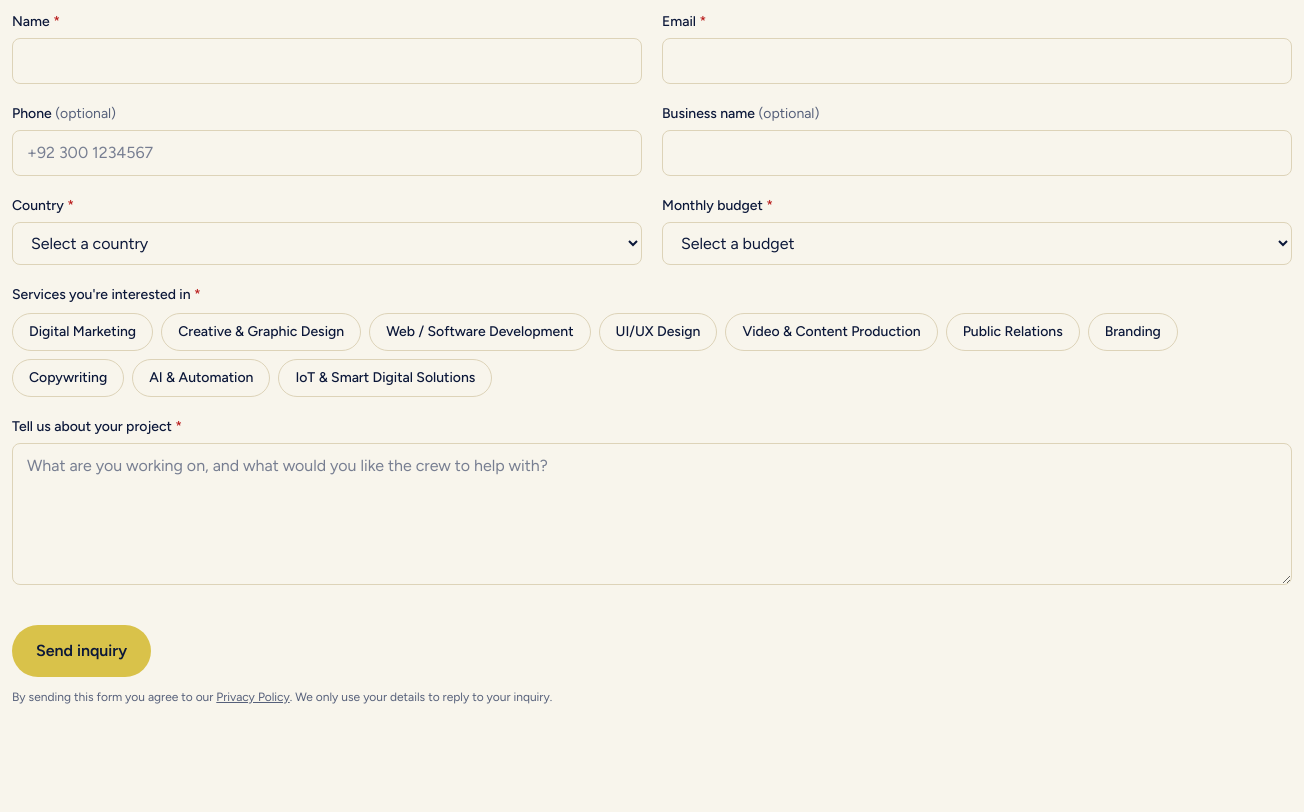
Scenario: InquiryForm › keeps the values after a server error and offers a retry
This screenshot has width=1304, height=812.
In the field labelled "Name *": (327, 61) [12, 38, 642, 84], type "Ayesha Khan"
In the field labelled "Email *": (977, 61) [662, 38, 1292, 84], type "ayesha@example.com"
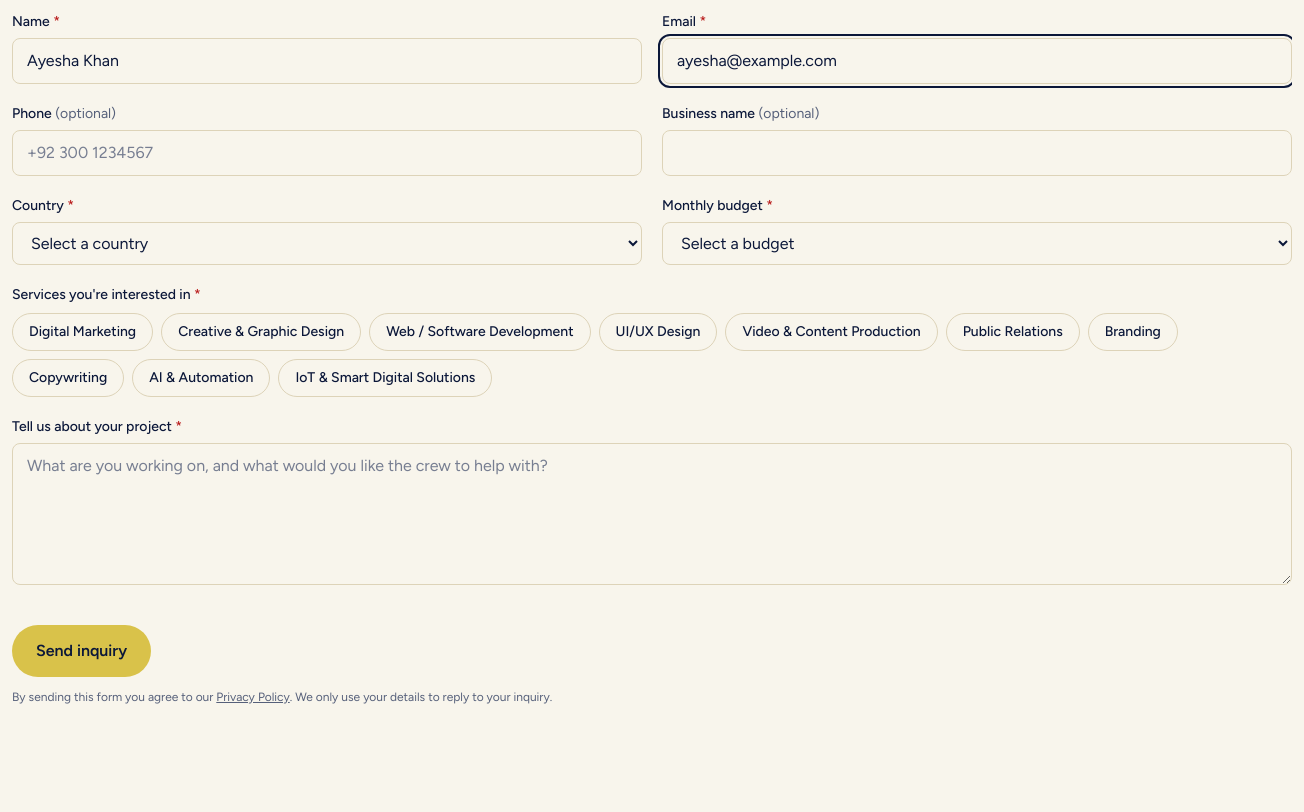
Select "Pakistan" in the dropdown labelled "Country *": (327, 244) [12, 222, 642, 265]
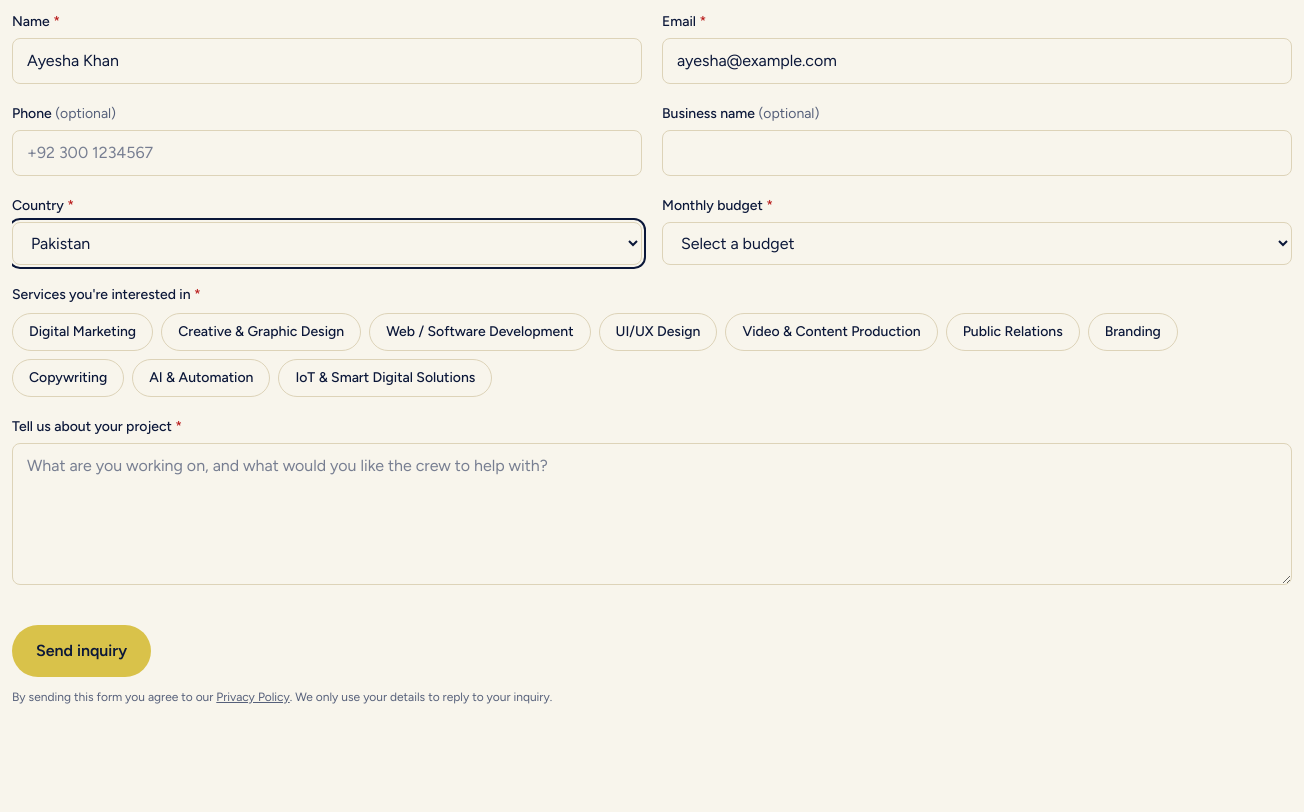
Select "Not sure yet" in the dropdown labelled "Monthly budget *": (977, 244) [662, 222, 1292, 265]
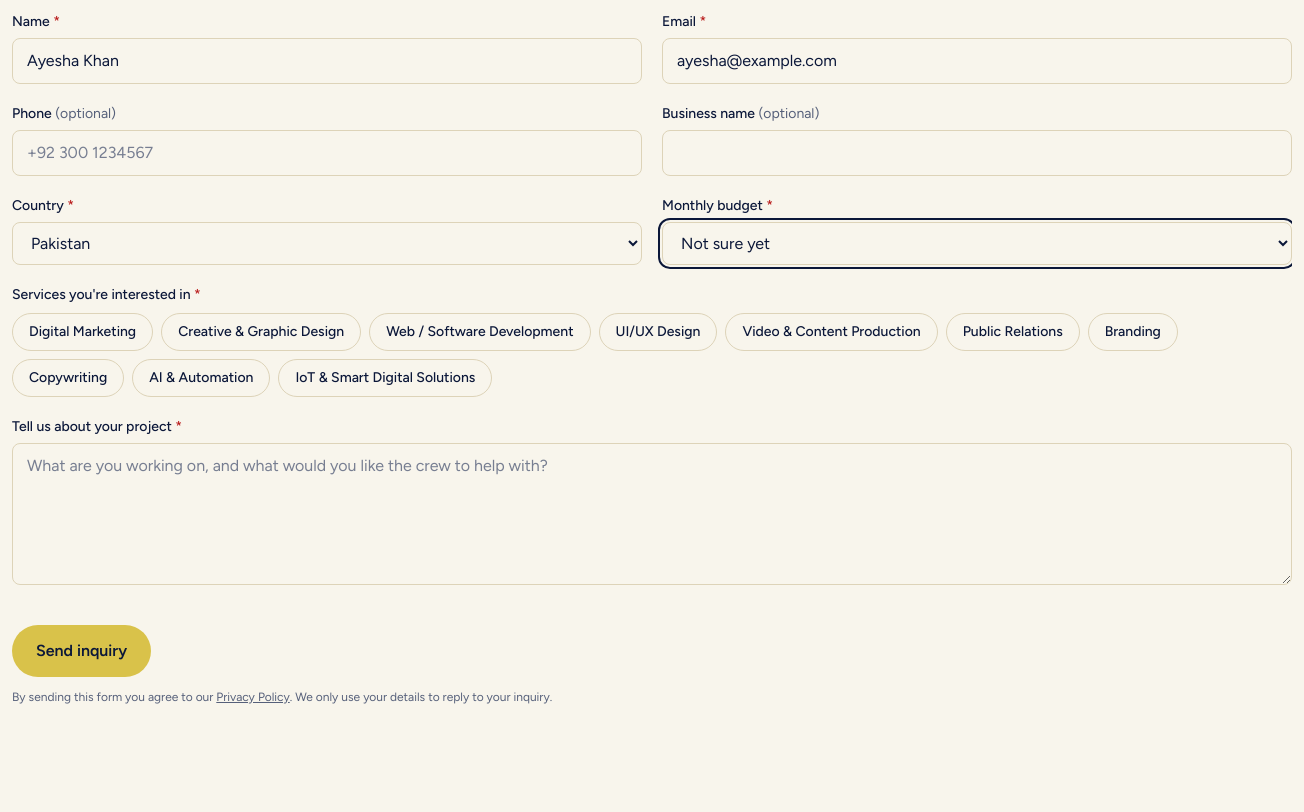
Click the checkbox labelled "Branding": (1133, 332) [1088, 313, 1178, 351]
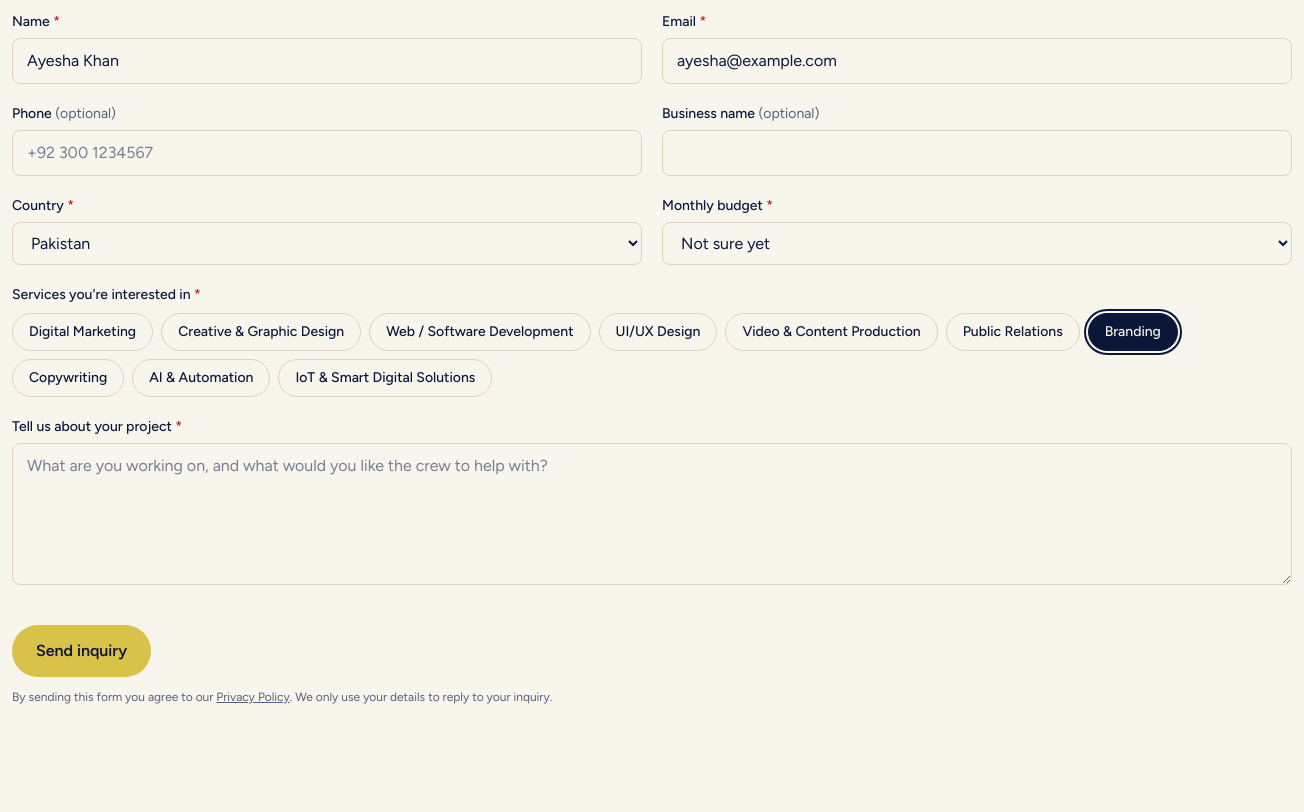
In the text box labelled "Tell us about your project *": (652, 514) [12, 443, 1292, 585], type "We need more patients from Google."
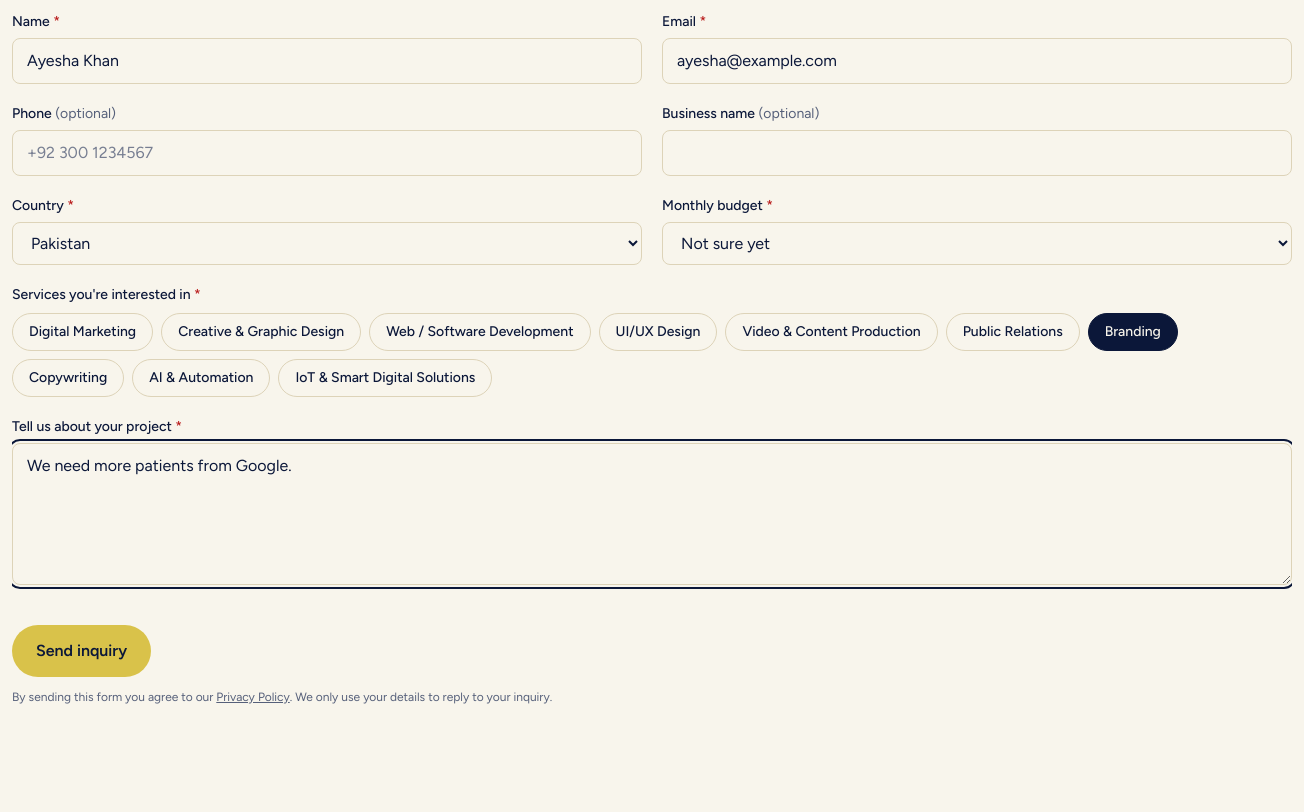
Click the button "Send inquiry": (82, 651) [12, 625, 151, 677]
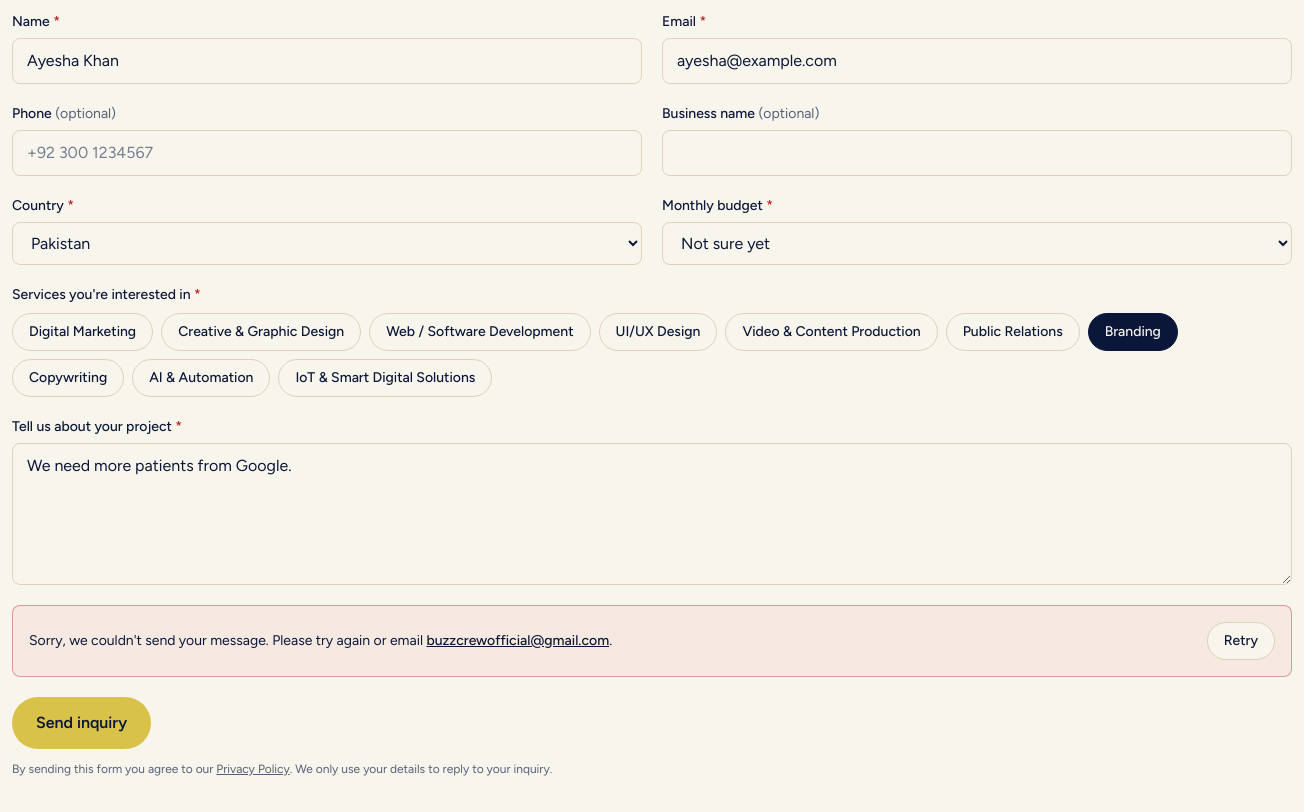
Check: the message shows "couldn't send your message", box [29, 632, 423, 649]
Check: the button "Retry" is shown, box [1207, 622, 1275, 660]
